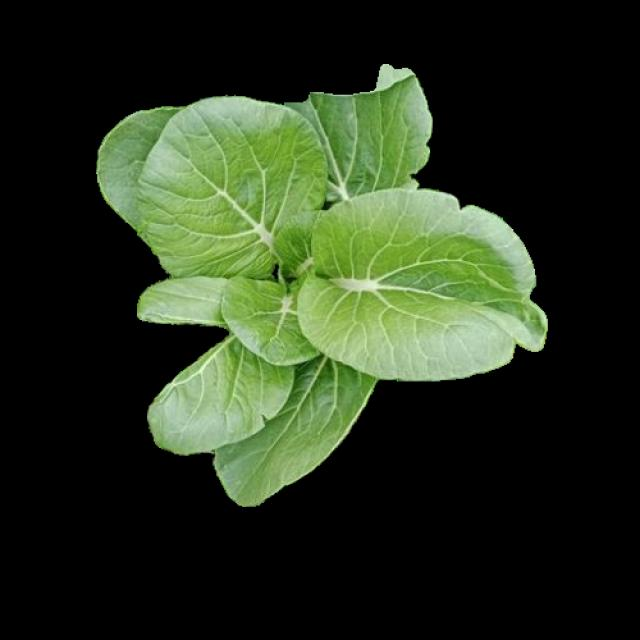mature: (98, 69, 546, 503)
unhealthy: (98, 270, 304, 456)
